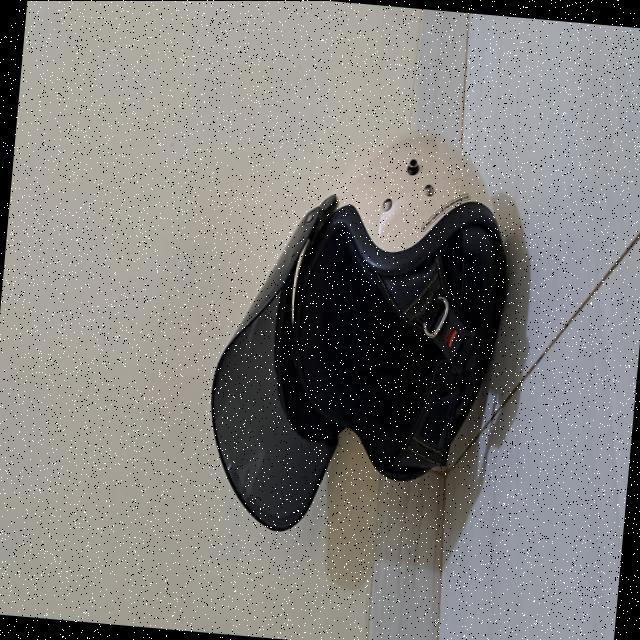Helm: (189, 113, 526, 555)
